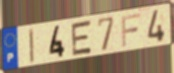4: (146, 8, 166, 44), (48, 24, 67, 59)
7: (97, 15, 116, 52)
E: (70, 18, 94, 57)
F: (120, 12, 142, 49)
I: (28, 27, 36, 65)
